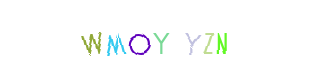7: (115, 0, 195, 80)
M: (75, 0, 155, 80)
N: (182, 0, 262, 80)
O: (98, 0, 178, 80)
W: (52, 0, 132, 80)
Y: (99, 0, 179, 80), (120, 0, 200, 80)
Z: (125, 0, 205, 80)
